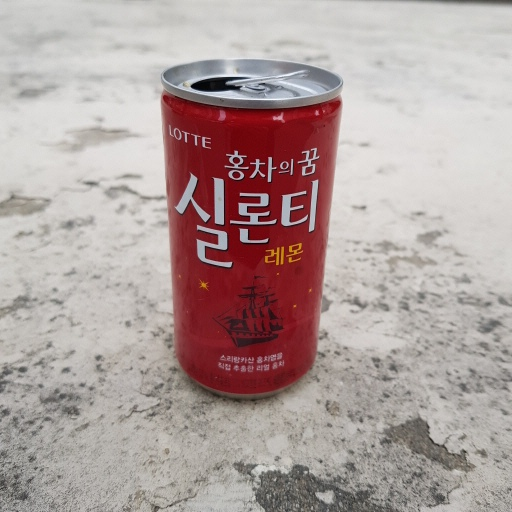Metal_0: (157, 57, 344, 405)
